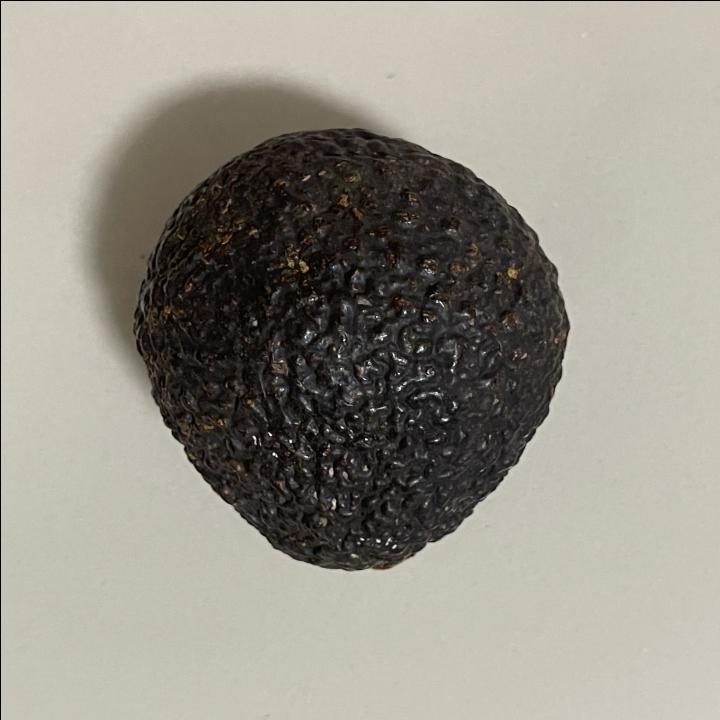Level1: (110, 114, 588, 588)
